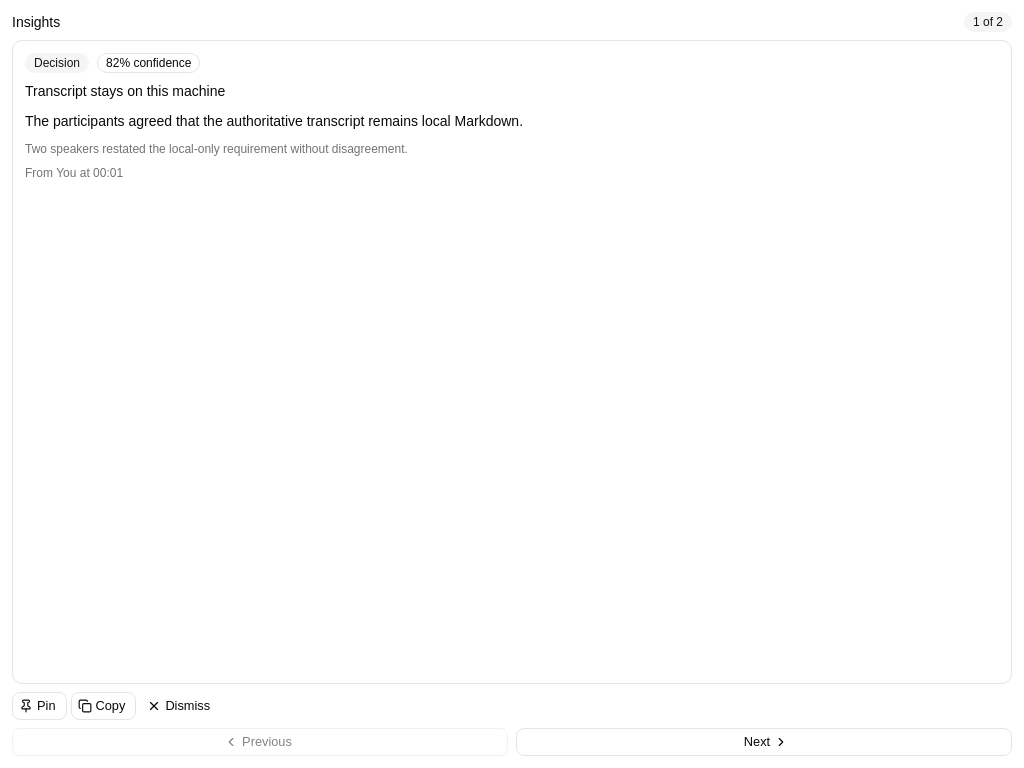
Test: DetachedInsightsWindow › dismisses an insight and keeps it from returning
The image size is (1024, 768).
Expected: the heading "Transcript stays on this machine" is shown, [25,83,225,99]
Click the button "Dismiss".
click(181, 706)  # box [140,692,221,720]
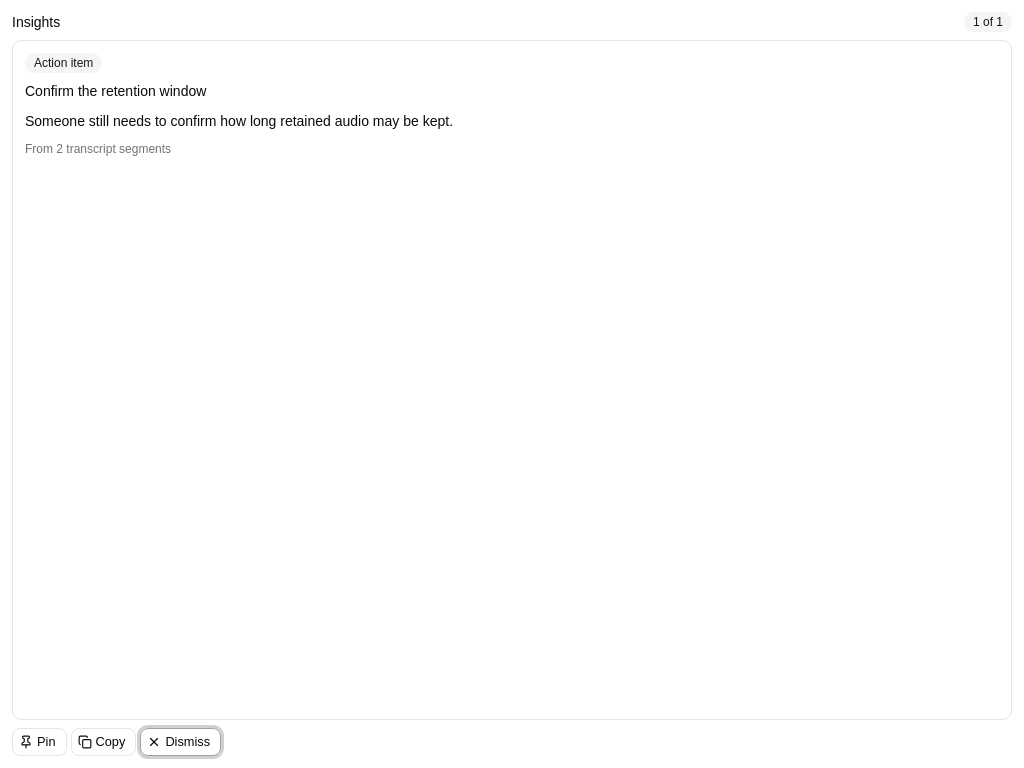
Expected: the icon "1 of 1" is shown, [964,12,1012,32]
Expected: the heading "Transcript stays on this machine" is gone
